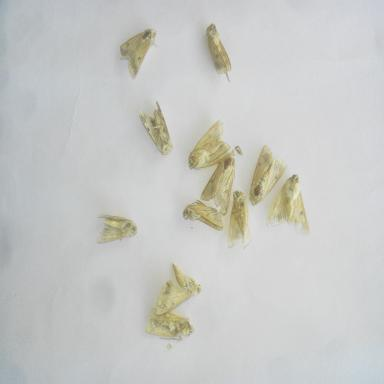abw: (264, 170, 314, 240), (153, 259, 204, 318), (248, 141, 290, 211), (184, 118, 236, 174), (198, 152, 240, 219), (136, 96, 177, 159), (117, 26, 160, 84), (143, 302, 199, 344), (223, 184, 257, 253), (181, 196, 227, 240), (204, 21, 234, 85), (93, 211, 139, 247)
